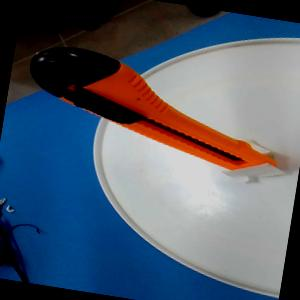estilete: (18, 39, 290, 176)
